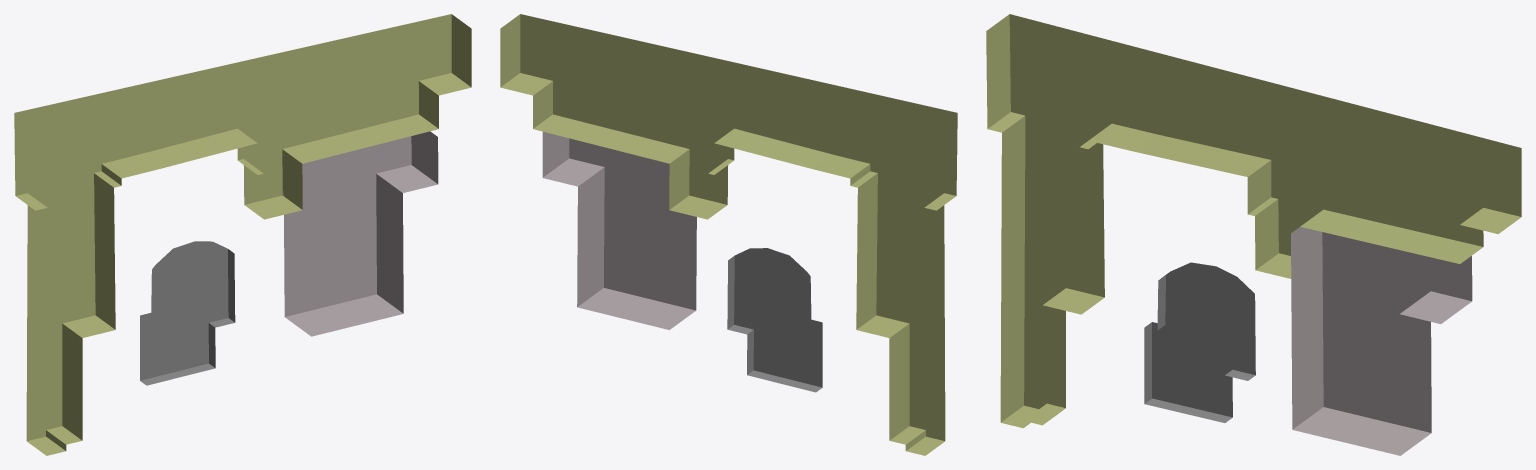
The picture shows the model from 3 angles, left to right: view 1: azimuth 30°, elevation 25°; view 2: azimuth 150°, elevation 25°; view 3: azimuth 330°, elevation 25°; orthographic projection. The views are drawn at different scales.
Visible parts, largest first — view 1: 0_0_2_0_1_0_0_3; view 2: 0_0_2_0_1_0_0_3; view 3: 0_0_2_0_1_0_0_3.
Boxes of the visible parts, x1=… form: 0_0_2_0_1_0_0_3: x1=14, y1=14, x2=471, y2=455; 0_0_2_0_1_0_0_3: x1=500, y1=14, x2=957, y2=455; 0_0_2_0_1_0_0_3: x1=986, y1=14, x2=1521, y2=455.
Bounding box in the file's own units: 113 × 82.05 × 12.5.
